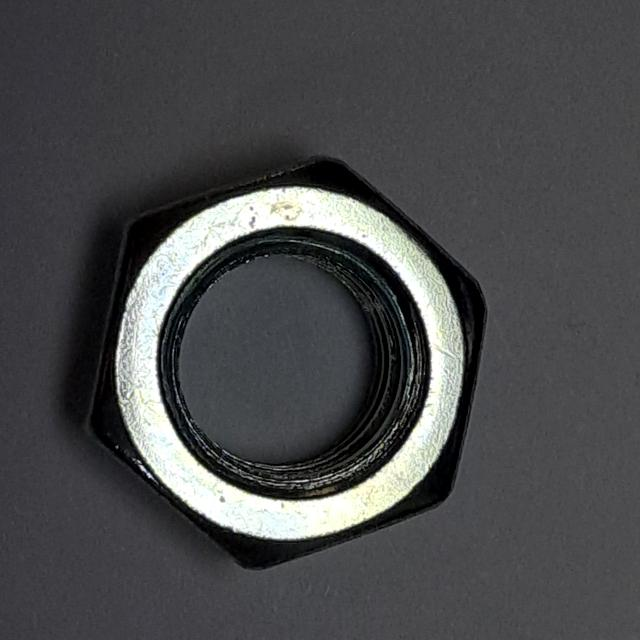Excellent: (66, 145, 497, 586)
